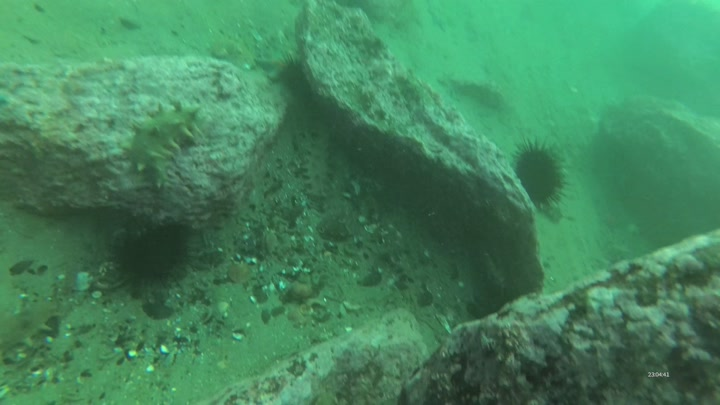echinus: (106, 221, 198, 299), (511, 138, 574, 213), (274, 55, 313, 95)
holothurian: (118, 101, 207, 192), (302, 118, 339, 201)
scallop: (225, 260, 260, 287)
starfish: (255, 33, 304, 85), (426, 2, 451, 33), (613, 241, 635, 264)
